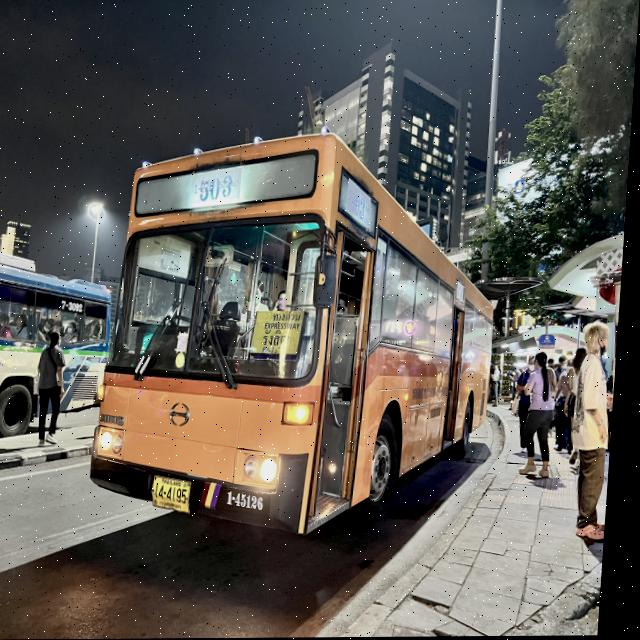BMTA-bus: (91, 134, 510, 539)
Bus-Line-Number: (191, 165, 252, 205)
Destination-Sign-Normal-Expressway: (252, 308, 313, 361)
